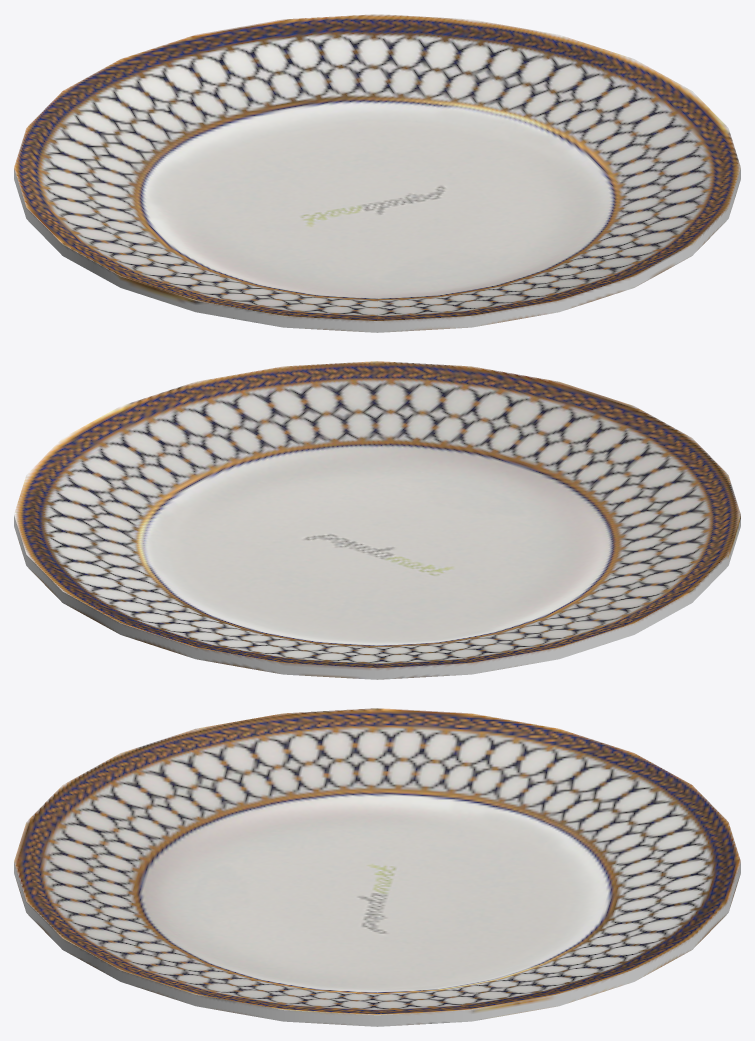
Rendered from Plate_01.fbx.
3 views of the same model, one above another, from view 1: azimuth 30°, elevation 25°; view 2: azimuth 150°, elevation 25°; view 3: azimuth 270°, elevation 25° (orthographic).
Parts seen in each view (by area): view 1: Plate_01_LOD0; view 2: Plate_01_LOD0; view 3: Plate_01_LOD0.
Part boxes in pixels (box(x1,y1,x2,y2)): Plate_01_LOD0: box(14, 14, 740, 332); Plate_01_LOD0: box(14, 361, 740, 679); Plate_01_LOD0: box(14, 708, 740, 1026).
Size of what is drawn, in the model's own units: 41.26 by 4.73 by 41.26.
